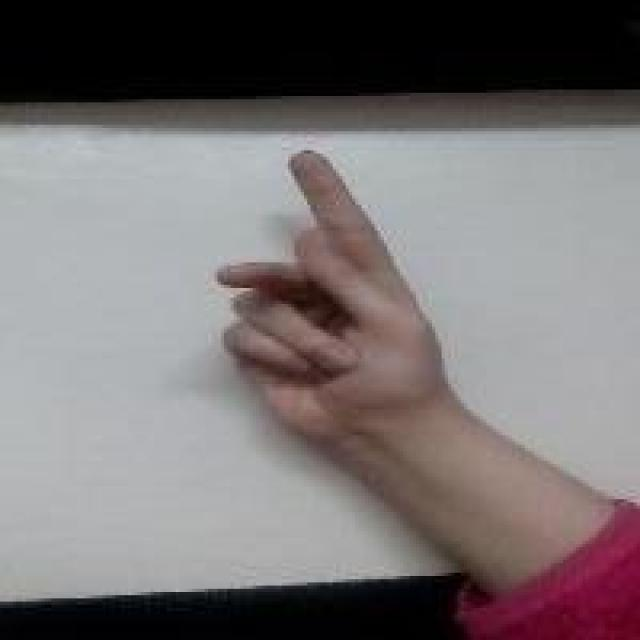K: (203, 144, 456, 467)
